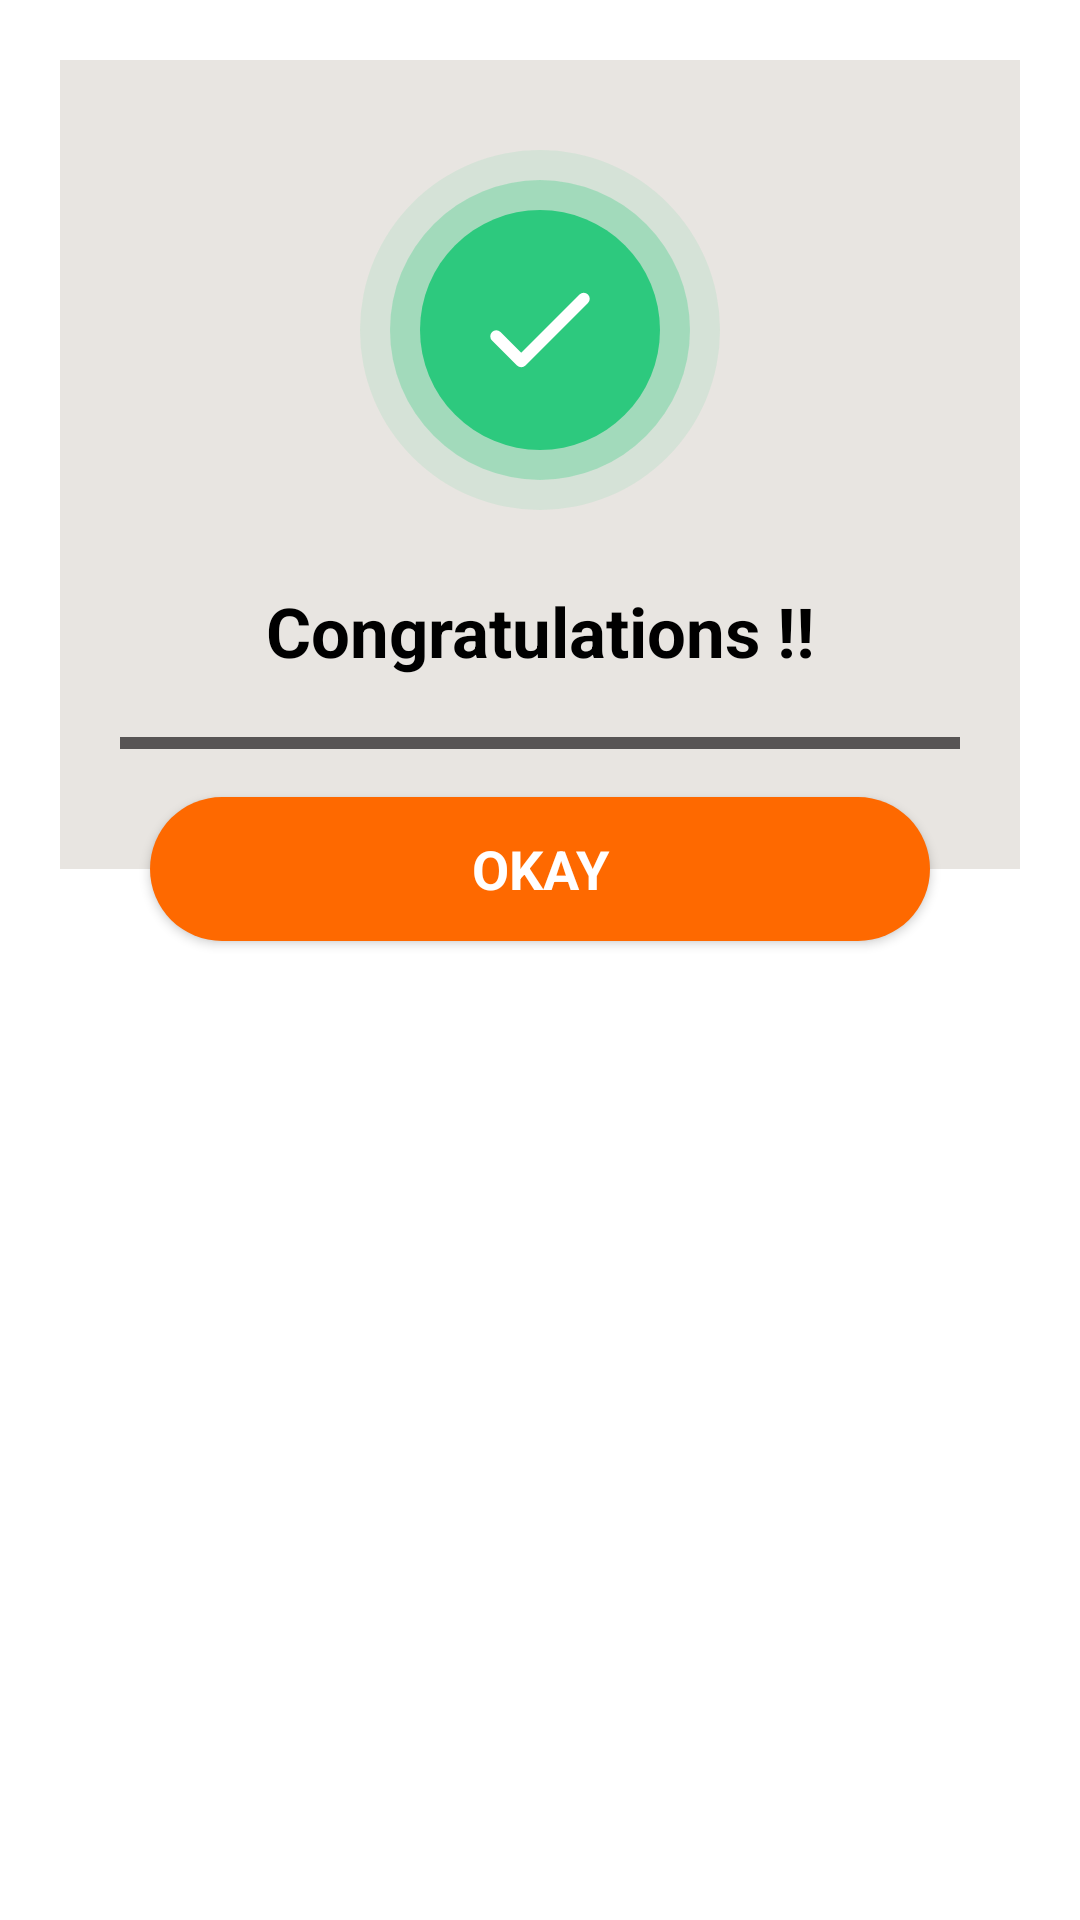

Named icons in this screenshot (1080×1920) and their centers, (x,y):
success tick: (540,330)
